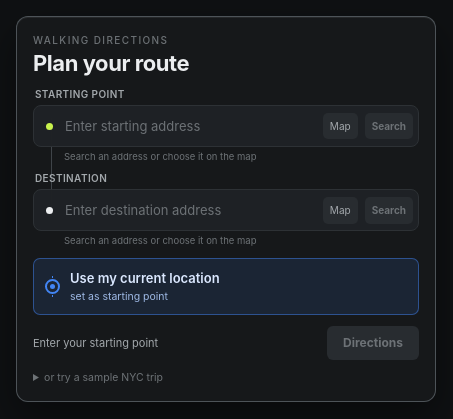
Scenario: route planner › turns a browser location fix into the route start
Step 1. Click the text "Use my current location" → click(145, 278), box [70, 270, 220, 286]
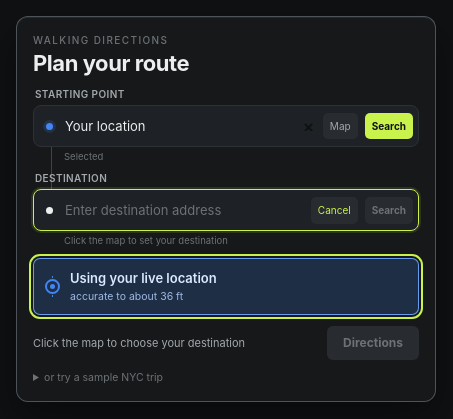
Expected: the text "Using your live location" is shown, [70, 270, 217, 286]
